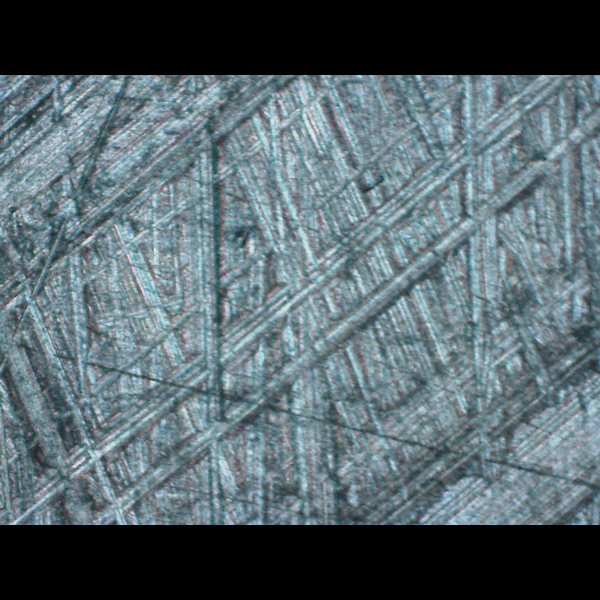d: (66, 94, 545, 506)
